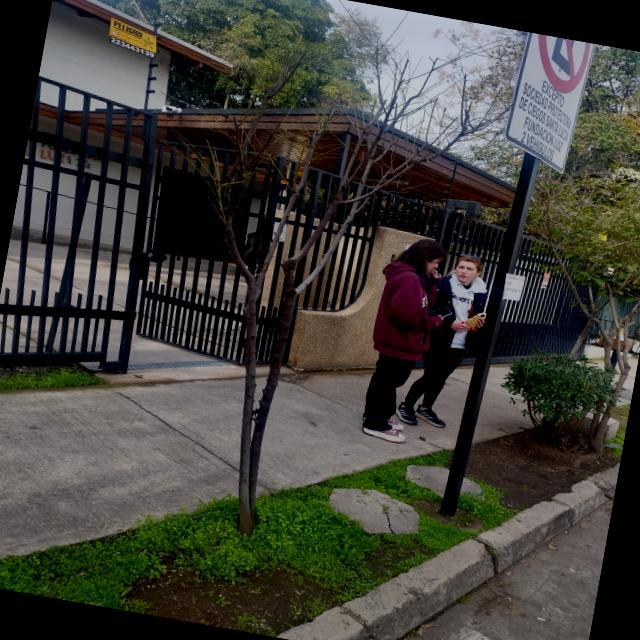person: (342, 214, 456, 451), (404, 239, 506, 442)
